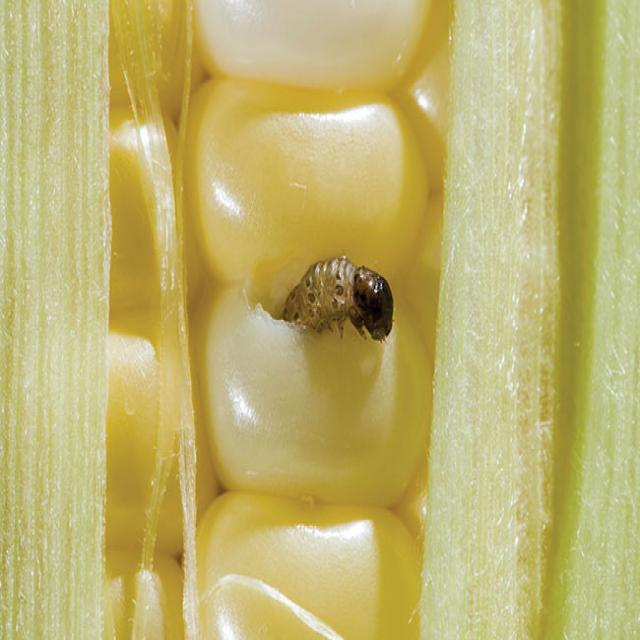cornborer-Larva-: (279, 246, 401, 356)
